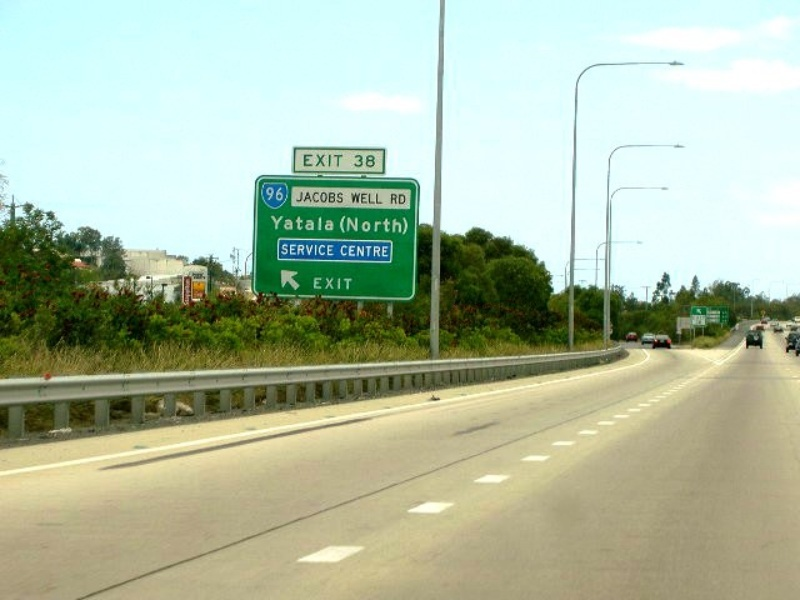text: (273, 214, 288, 233), (289, 214, 304, 233), (305, 214, 320, 233), (321, 214, 336, 233), (353, 216, 368, 234), (369, 216, 384, 234), (385, 216, 400, 234), (184, 278, 192, 308), (339, 216, 352, 234), (337, 277, 353, 291), (353, 192, 368, 206), (369, 192, 384, 206), (354, 153, 368, 168), (289, 243, 304, 257), (305, 243, 320, 257), (321, 243, 336, 257), (353, 244, 368, 258), (369, 244, 384, 258), (321, 277, 336, 291), (305, 154, 320, 167), (321, 154, 336, 167), (305, 192, 320, 204), (321, 192, 336, 204), (707, 311, 720, 324), (273, 187, 284, 202), (341, 244, 352, 258), (401, 216, 409, 234), (279, 243, 288, 257), (391, 193, 400, 206), (312, 277, 320, 291), (369, 153, 376, 168), (296, 192, 304, 204), (266, 187, 272, 202), (337, 192, 344, 204), (337, 154, 343, 167), (401, 193, 407, 206), (269, 214, 272, 233), (385, 244, 389, 258), (351, 192, 352, 206), (303, 154, 304, 167)
